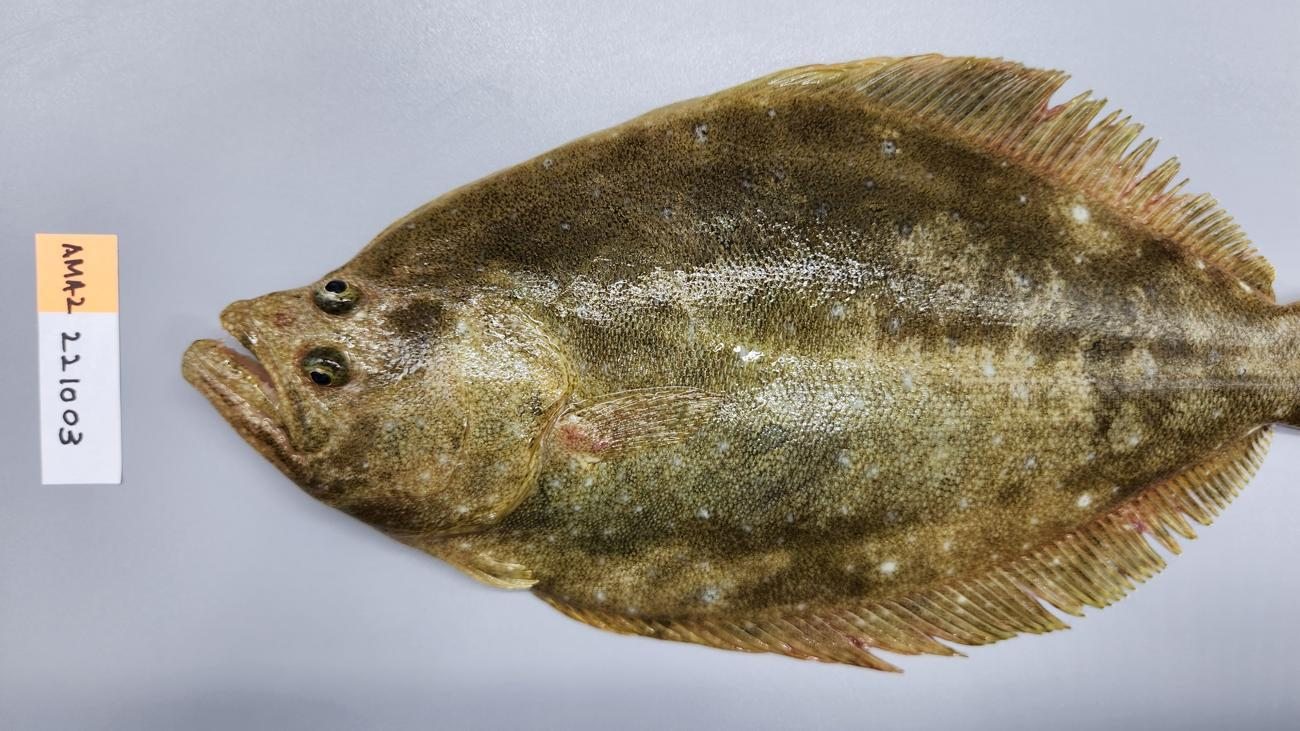MAFAH: (1061, 456, 1207, 565)
